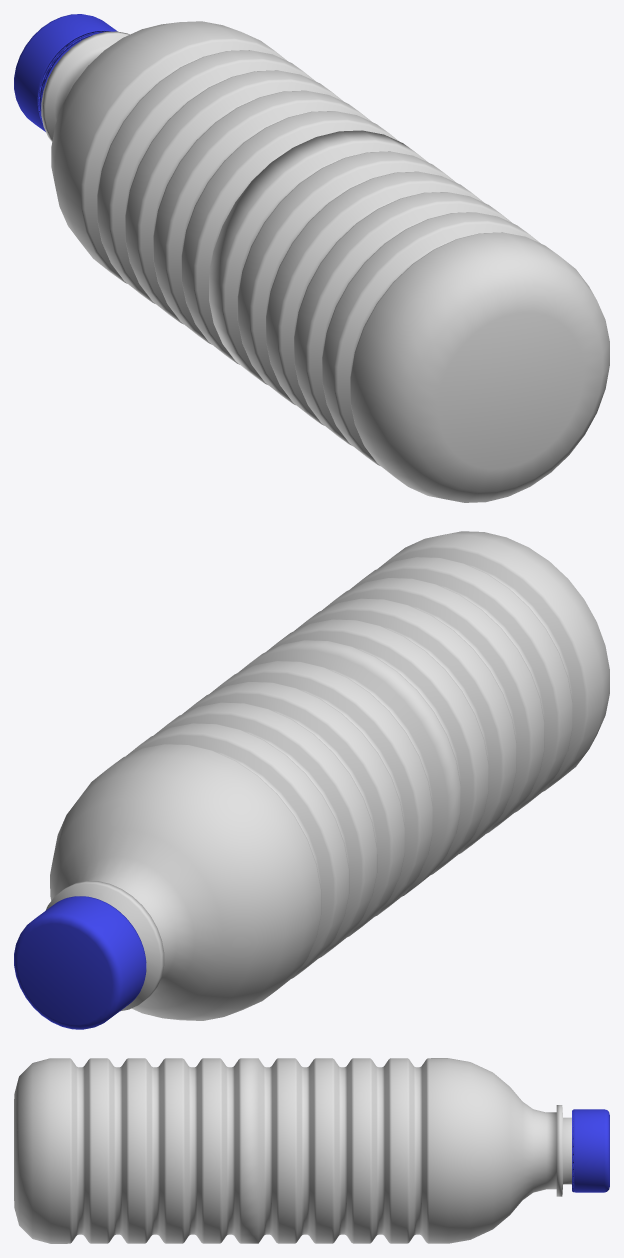
File: bottle.fbx
The picture shows the model from 3 angles, top to bottom: view 1: azimuth 30°, elevation 25°; view 2: azimuth 150°, elevation 25°; view 3: azimuth 270°, elevation 25°; orthographic projection. The views are drawn at different scales.
Visible parts, largest first — view 1: Cylinder.001, Cylinder.002; view 2: Cylinder.001, Cylinder.002; view 3: Cylinder.001, Cylinder.002.
Boxes of the visible parts, x1,y1,x2,y2 form: Cylinder.001: [41, 21, 609, 502]; Cylinder.002: [14, 14, 117, 131]; Cylinder.001: [45, 531, 609, 1020]; Cylinder.002: [14, 896, 146, 1029]; Cylinder.001: [14, 1058, 571, 1243]; Cylinder.002: [572, 1109, 609, 1192].
Size of the model in its own units: 90.65 by 90.11 by 289.
